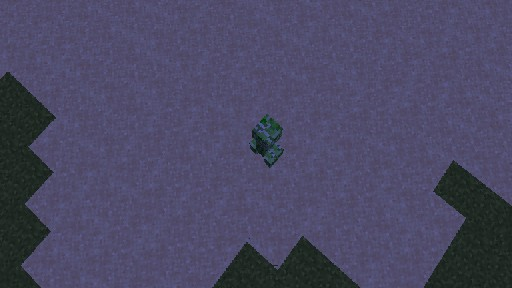creeper: (248, 113, 283, 168)
